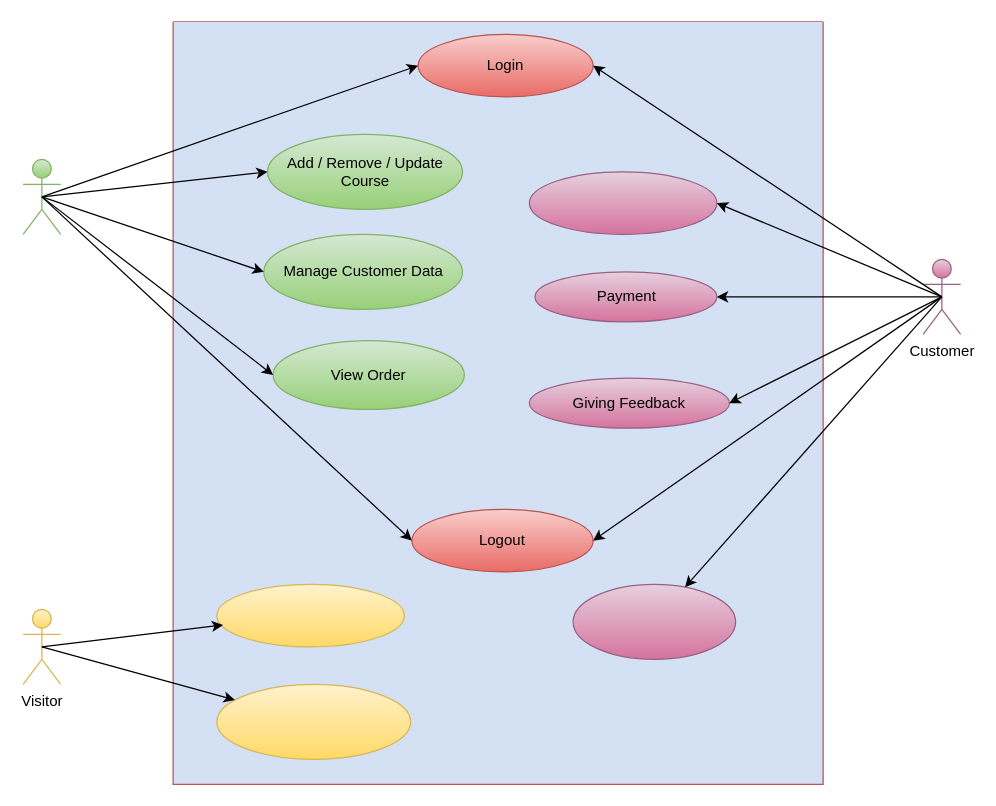
The diagram is 996 pixels wide and 806 high, and some of its shapes have lost their labels. Here are the shapes that lost their labels. From the top down, the centre of each, then its label:
point (41, 196): Editor
point (622, 202): Browse Category
point (310, 615): Visit Site
point (654, 621): View Account Details
point (313, 721): Create New Account
